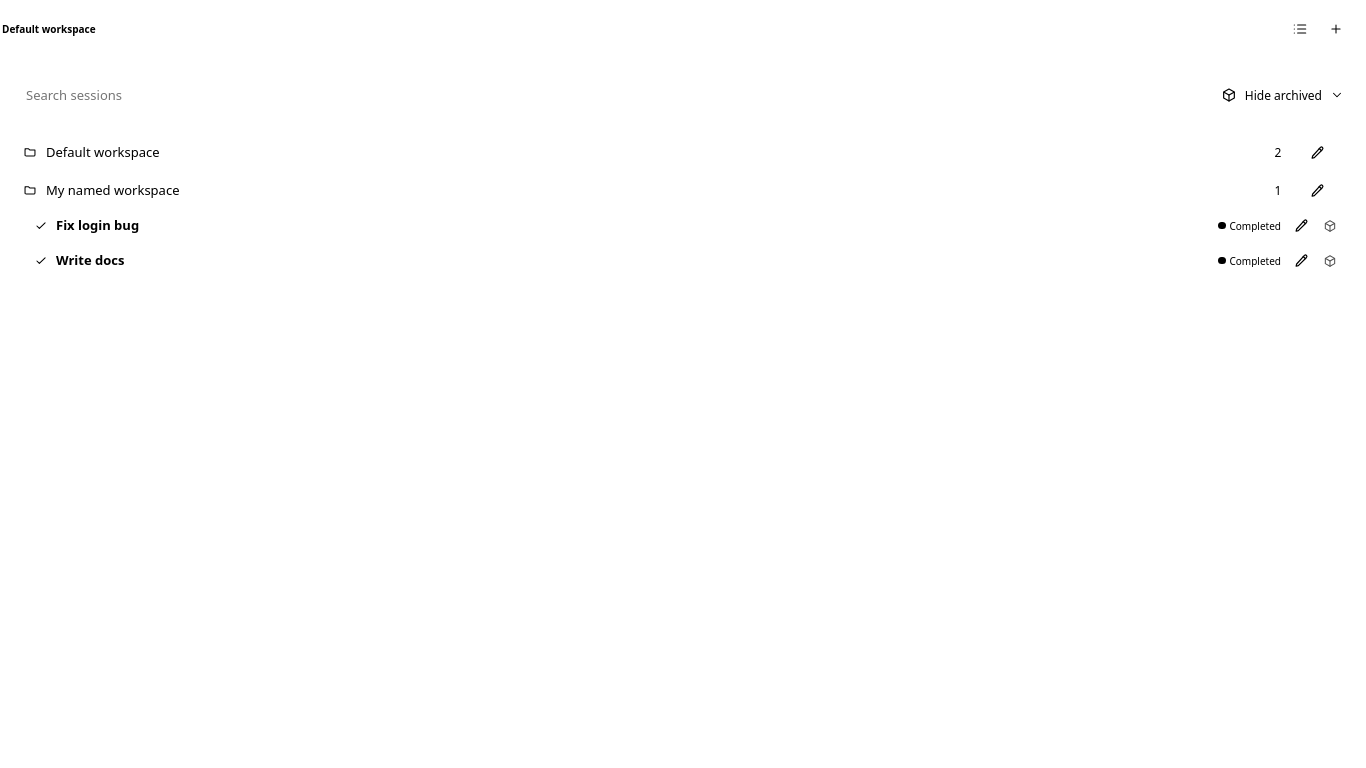
Test: SessionDrawer › localizes the default workspace display name and preserves user names
Expected: the text "Default workspace" is shown 2 times, [2,22,96,36]; [46,143,160,161]
Expected: the text "My named workspace" is shown, [46,181,180,199]
Click the button named "Rename workspace Default workspace" at [1318, 153], box [1302,137,1334,169]
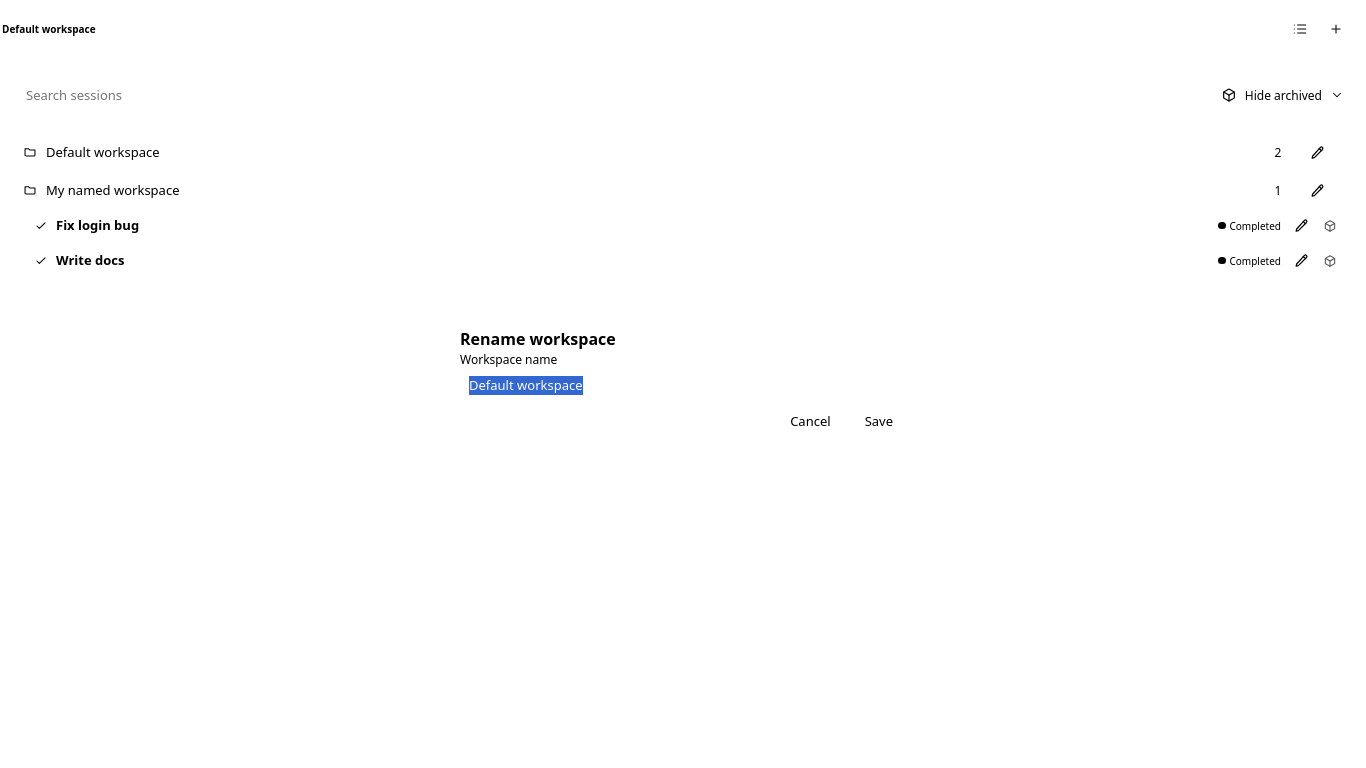
Now the field labelled "Workspace name" holds "Default workspace", box [460,368,906,403]
Click the button "Save" at [879, 422], box [852,403,906,440]
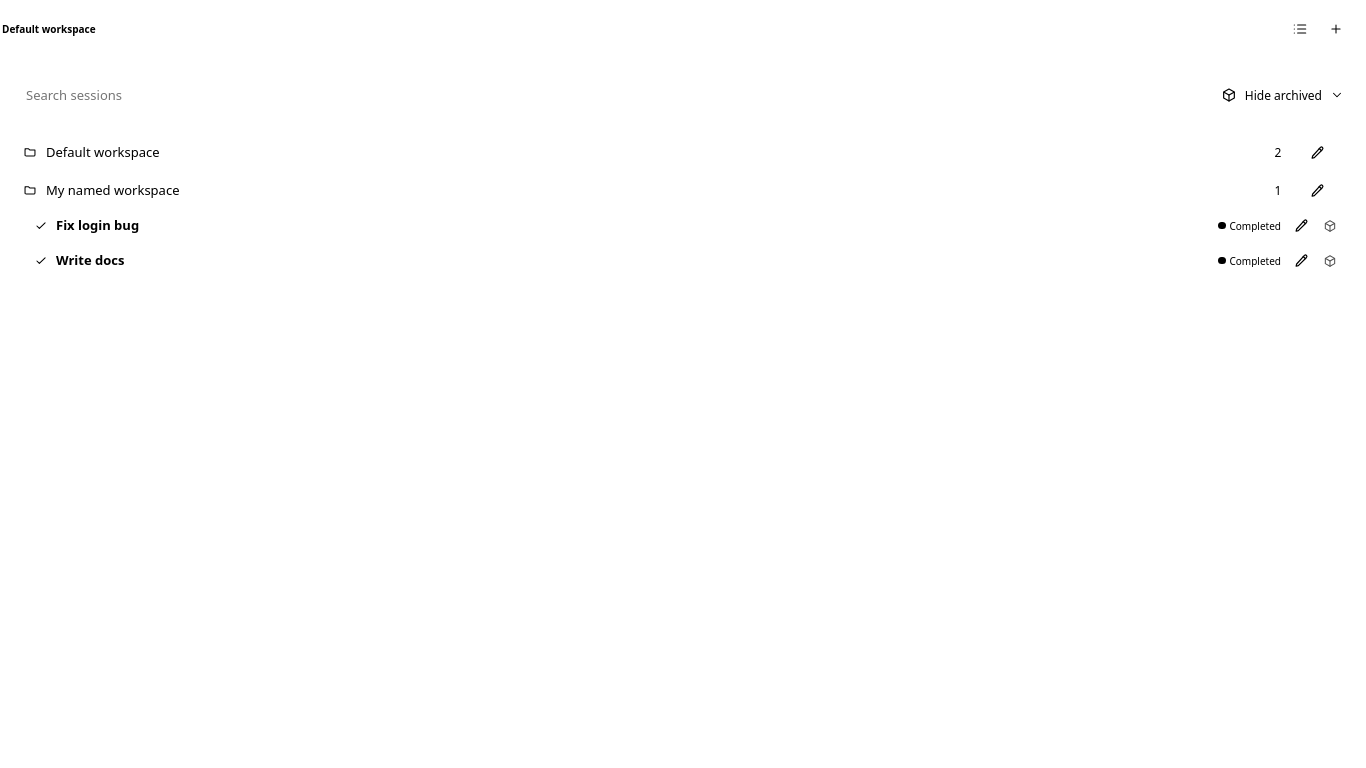
Now the heading "Rename workspace" is gone
